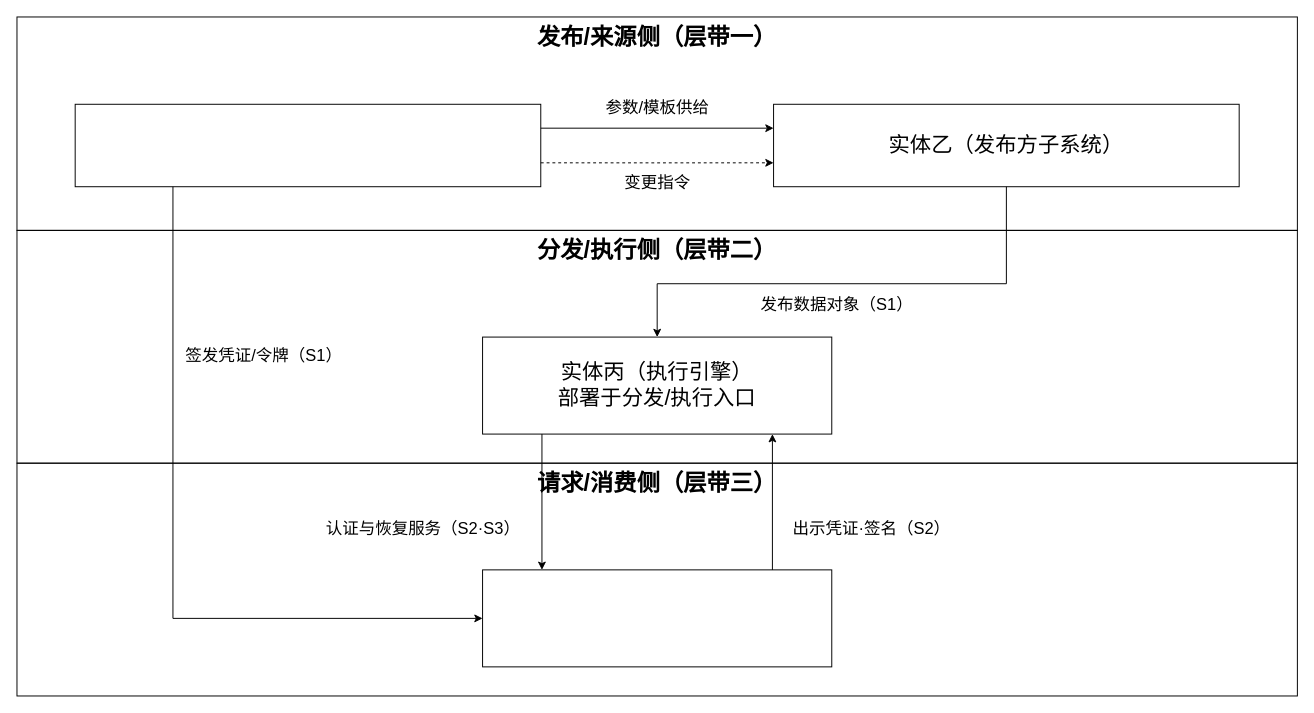
The diagram is 1314 pixels wide and 713 high, and some of its shapes have lost their labels. The shapes that lost their labels are listed below. From the top down, each one's centre as x and y in pixels, then its label:
At (307,145): "实体甲（基础设施/供给方）".
At (657,618): "实体丁（请求方，设备端）".
